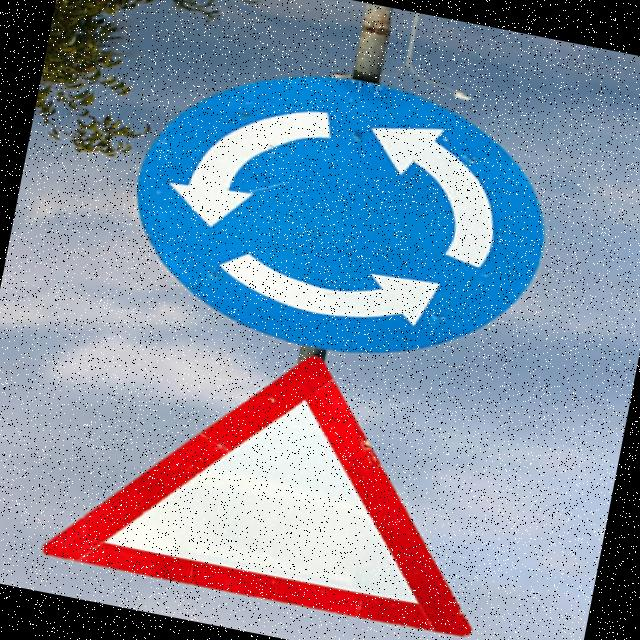give_way: (14, 299, 592, 640)
